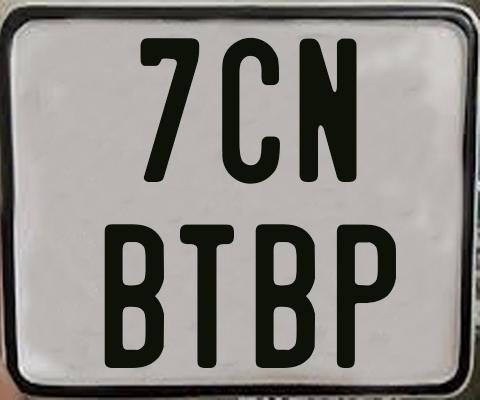7: (138, 37, 202, 183)
B: (255, 221, 318, 370), (105, 224, 166, 370)
C: (221, 36, 285, 187)
N: (296, 35, 355, 183)
P: (335, 223, 395, 372)
T: (177, 223, 235, 367)
